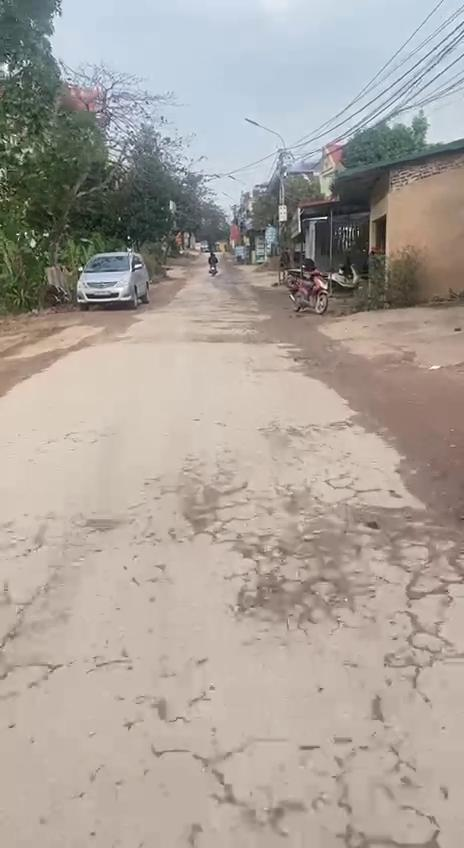pothole: (232, 534, 360, 628), (351, 493, 464, 586), (174, 476, 228, 540)
